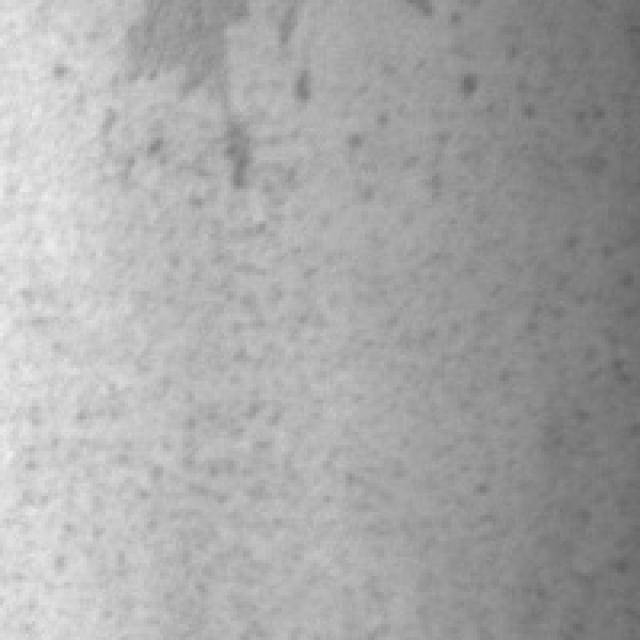pitted_surface: (6, 0, 628, 618)
